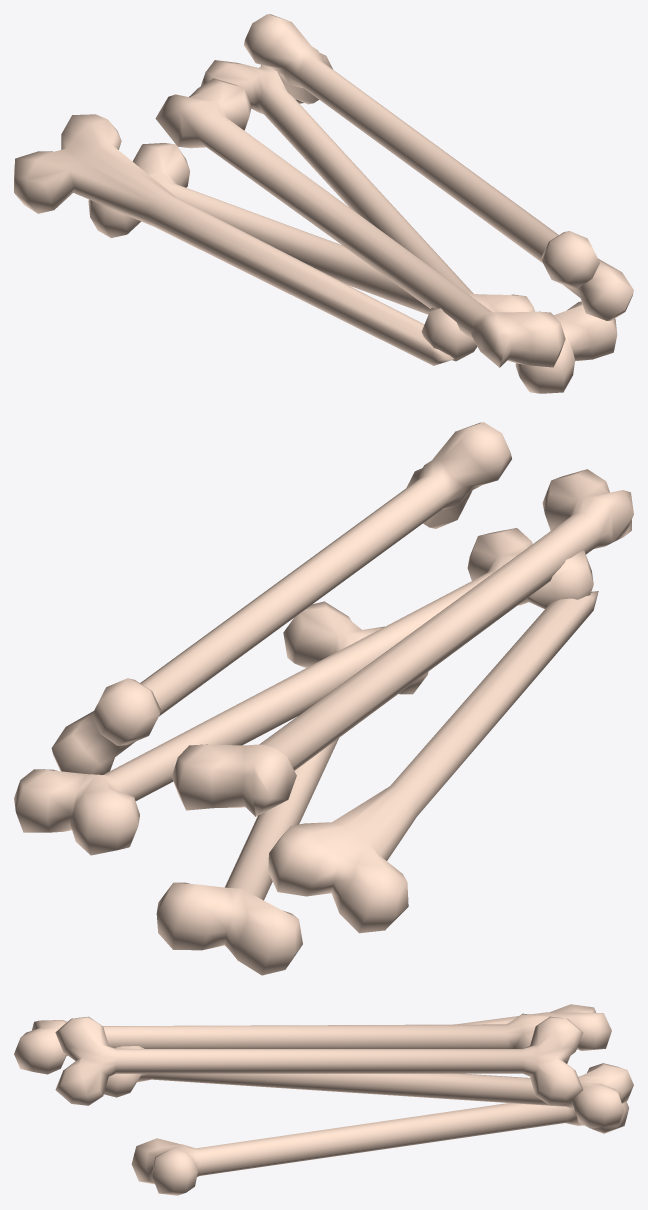
File: BonesCollection.fbx
The picture shows the model from 3 angles, top to bottom: view 1: azimuth 30°, elevation 25°; view 2: azimuth 150°, elevation 25°; view 3: azimuth 270°, elevation 25°; orthographic projection. The views are drawn at different scales.
Parts seen in each view (by area): view 1: BonesCollection; view 2: BonesCollection; view 3: BonesCollection.
Part boxes in pixels (bbox=[...]): BonesCollection: bbox=[14, 14, 633, 393]; BonesCollection: bbox=[14, 422, 633, 975]; BonesCollection: bbox=[14, 1004, 633, 1195].
Bounding box in the file's own units: 50.58 × 27.56 × 98.22.
